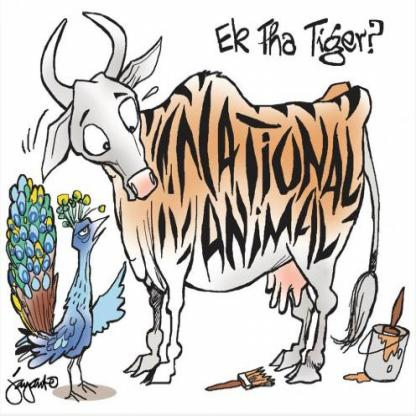cow: (41, 35, 380, 385)
